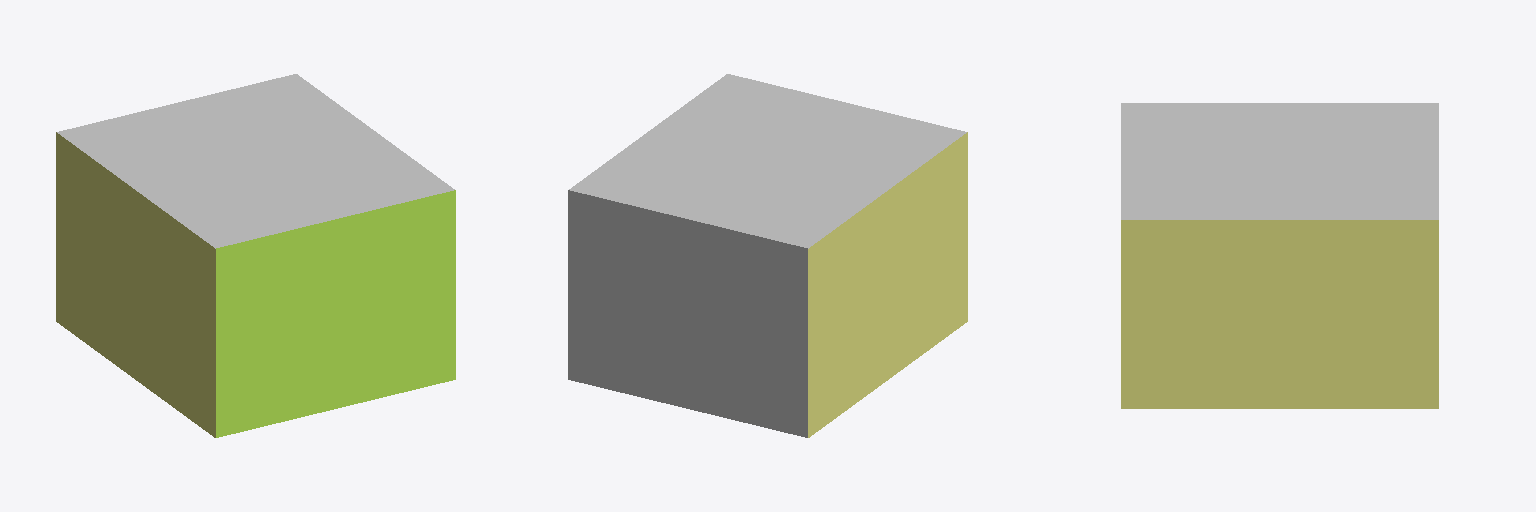
File: partydog.obj
The picture shows the model from 3 angles: view 1: azimuth 30°, elevation 25°; view 2: azimuth 150°, elevation 25°; view 3: azimuth 270°, elevation 25°; orthographic projection.
Parts seen in each view (by area): view 1: Mesh6 Component_1_1 Model; view 2: Mesh6 Component_1_1 Model; view 3: Mesh6 Component_1_1 Model.
Part boxes in pixels (bbox=[...]): Mesh6 Component_1_1 Model: bbox=[56, 74, 455, 437]; Mesh6 Component_1_1 Model: bbox=[568, 74, 967, 437]; Mesh6 Component_1_1 Model: bbox=[1121, 103, 1438, 408].
Size of the model in its own units: 3.38 by 2.55 by 3.88.